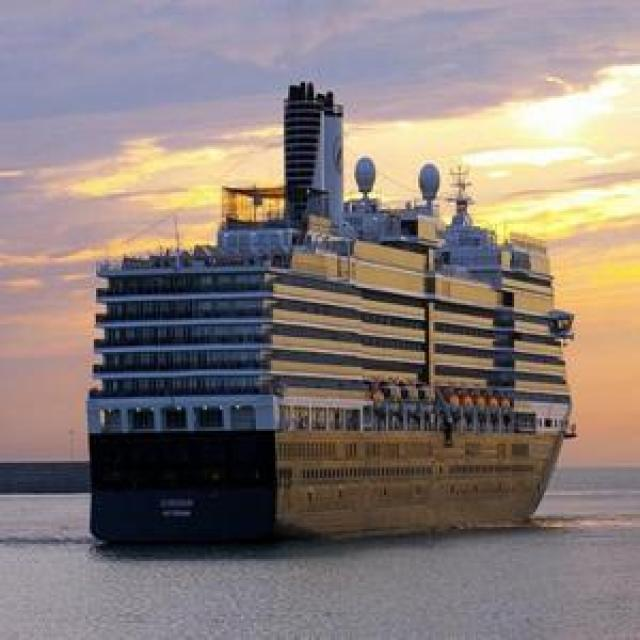passenger ship: (66, 124, 592, 540)
